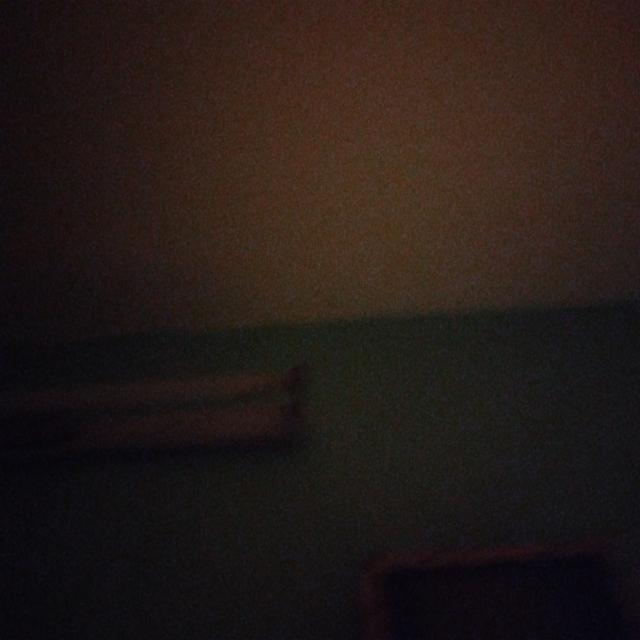tubelight_off: (0, 358, 315, 461)
